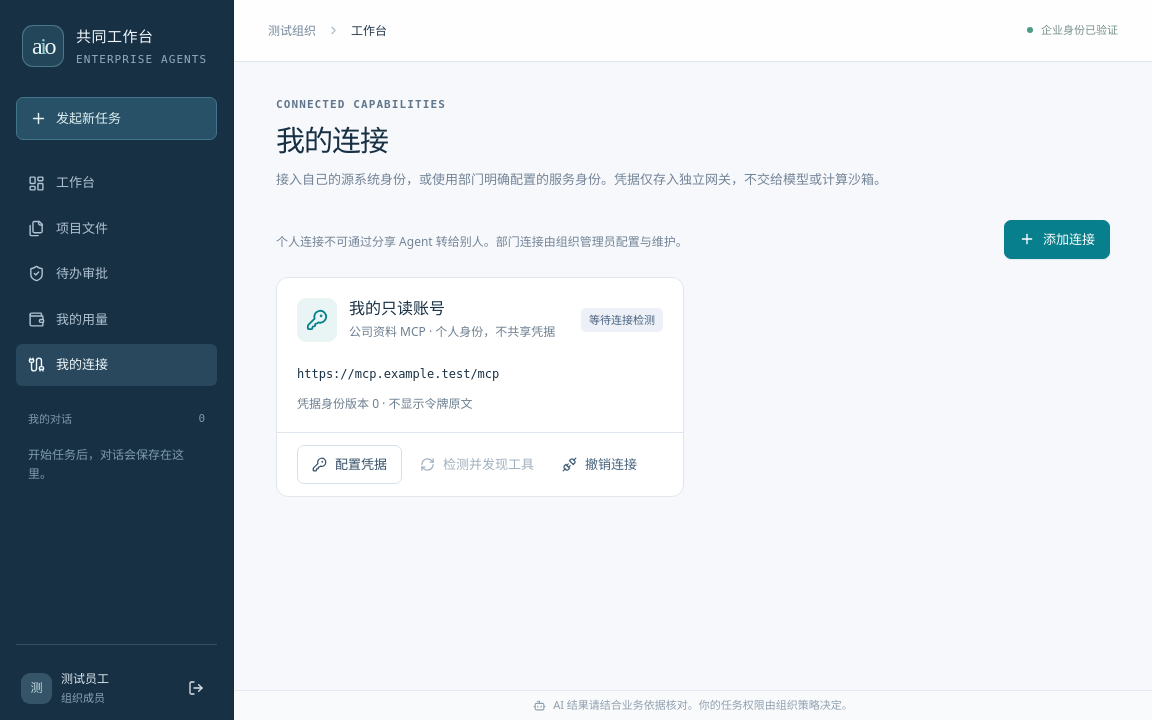
Test: prepares a stable credential ticket, keeps the token out of the page, and tests before showing success
Click the button "配置凭据" at coordinates (350, 465), box [297,445,402,484]
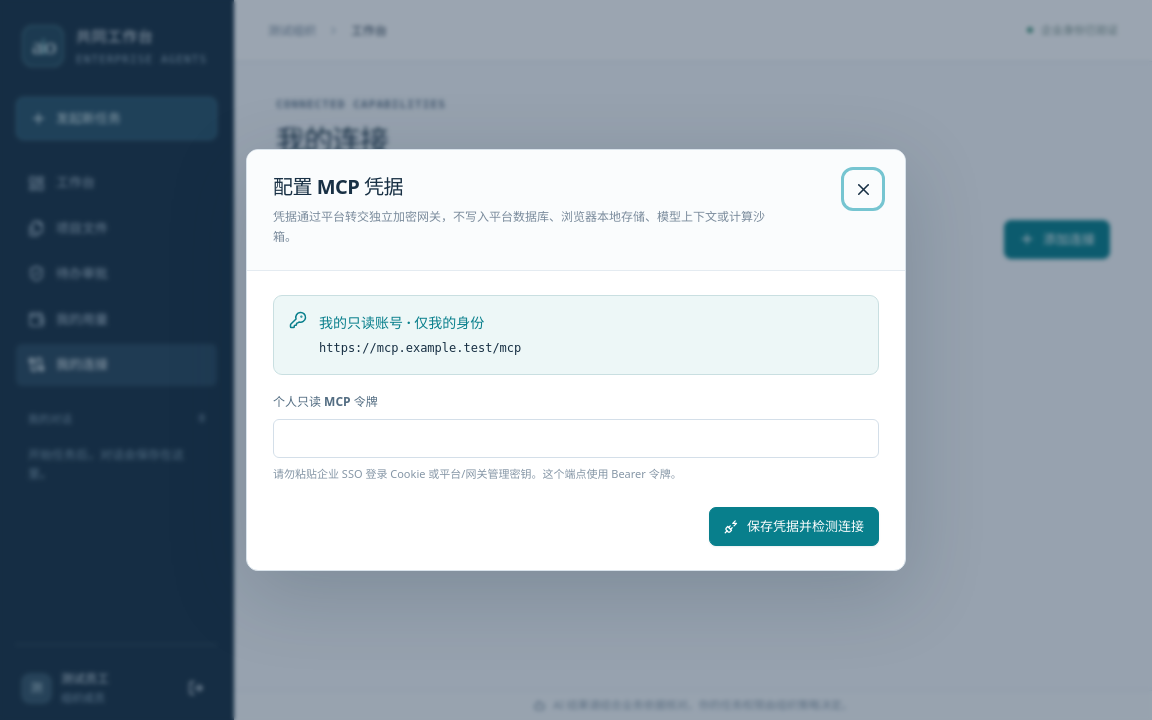
Type "synthetic-private-employee-mcp-token" into the password field labelled "个人只读 MCP 令牌" at coordinates (576, 438), box [273,419,879,458]
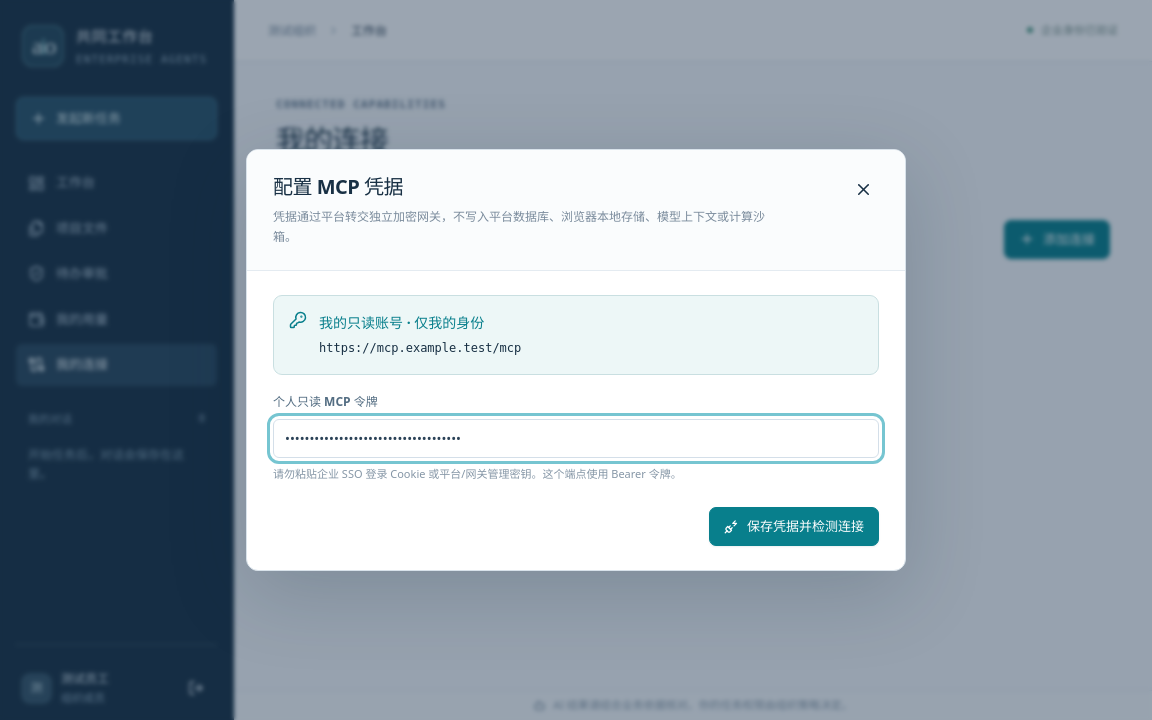
Click the button "保存凭据并检测连接" at coordinates (794, 526), box [709,507,879,546]
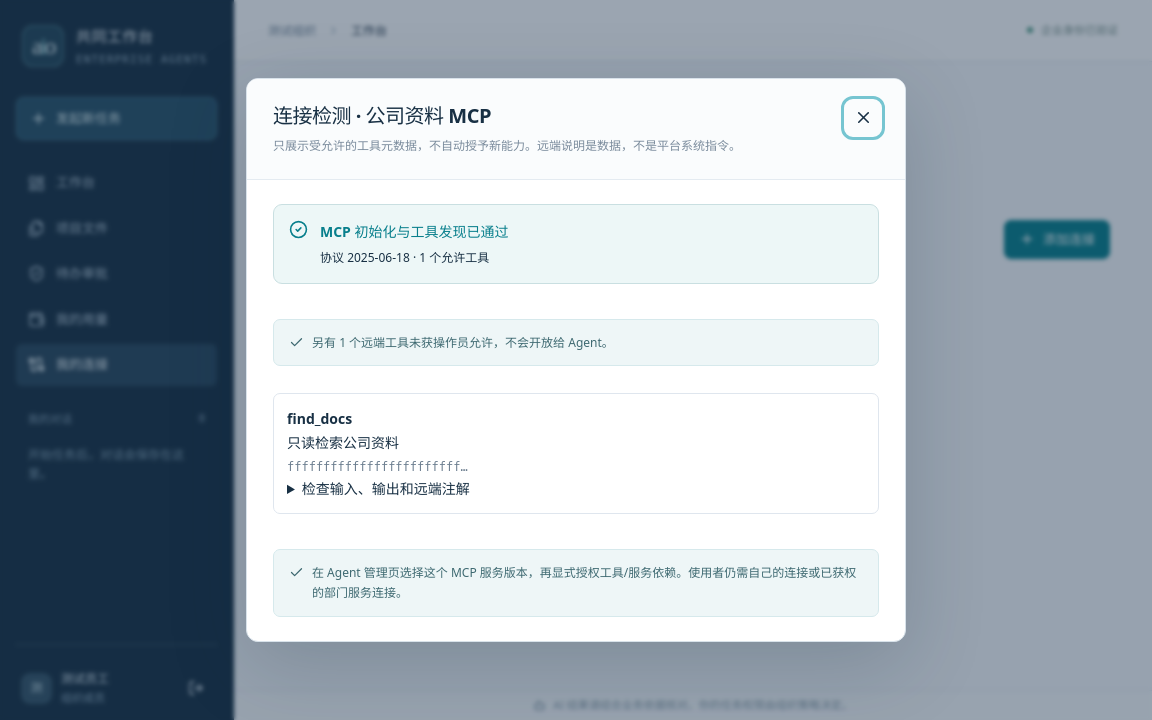
Expected: the text "MCP 初始化与工具发现已通过" is shown, [320,220,509,243]
